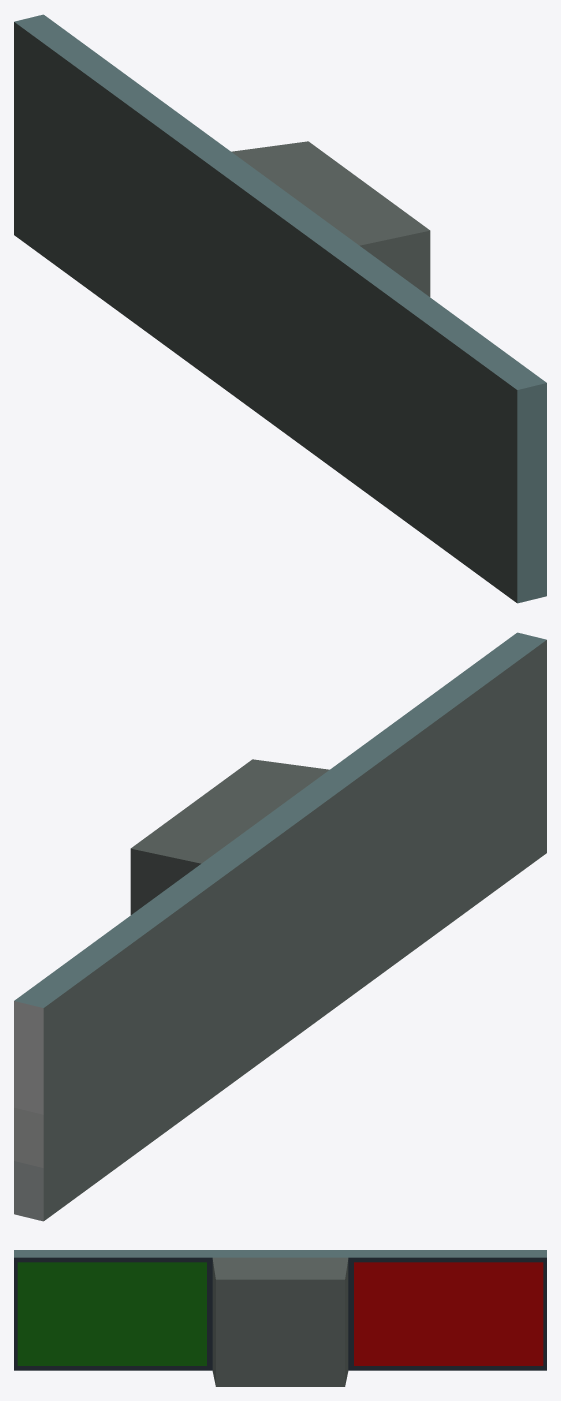
Rendered from LoadCenter_Toggle.fbx.
3 views of the same model, one above another, from view 1: azimuth 30°, elevation 25°; view 2: azimuth 150°, elevation 25°; view 3: azimuth 270°, elevation 25° (orthographic). The views are drawn at different scales.
Parts seen in each view (by area): view 1: Toggle; view 2: Toggle; view 3: Toggle.
Part boxes in pixels (x1=…): Toggle: x1=14, y1=14, x2=546, y2=603; Toggle: x1=14, y1=632, x2=546, y2=1221; Toggle: x1=14, y1=1250, x2=546, y2=1386.
Bounding box in the file's own units: 14.7 × 3.44 × 1.75.
